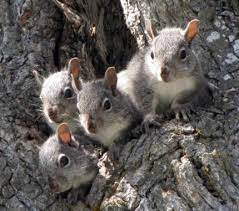squirrel: (133, 18, 203, 128), (72, 74, 134, 143), (36, 125, 93, 193), (36, 64, 84, 134)
